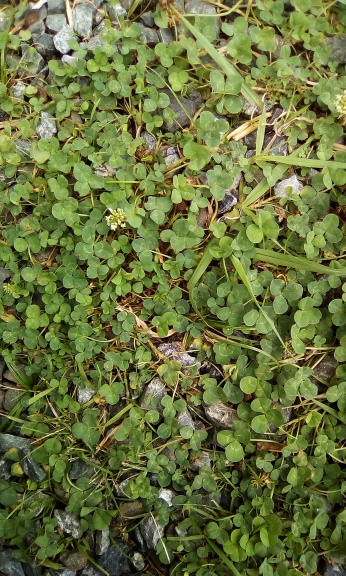4leaf: (159, 219, 198, 253)
